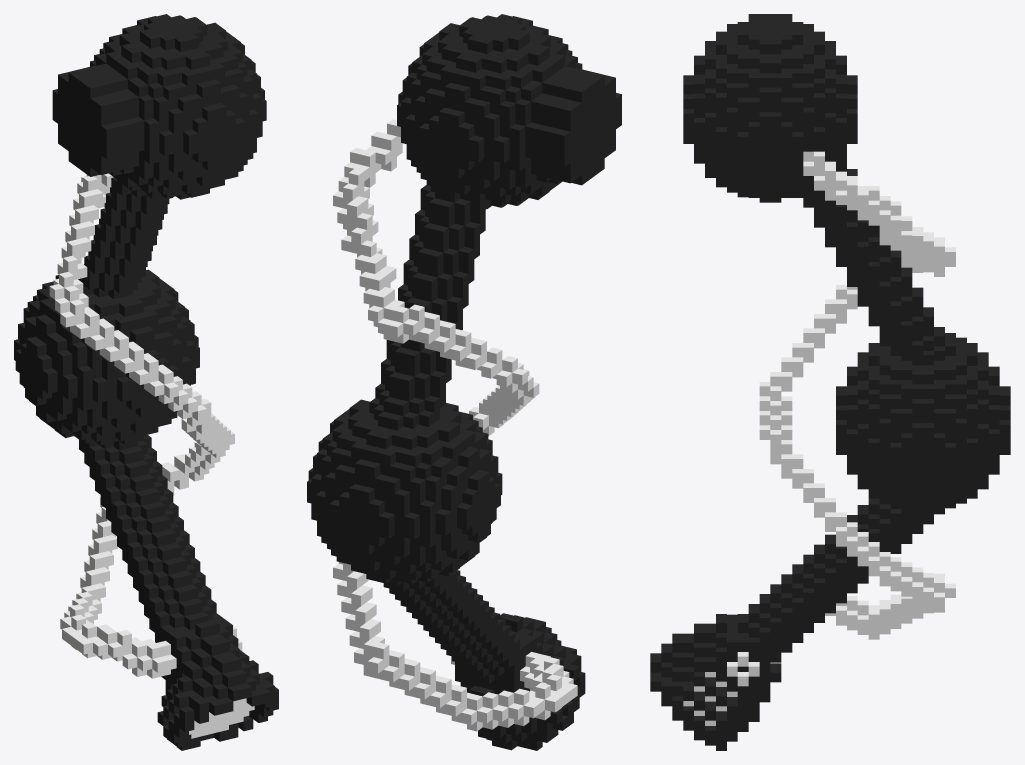
The model's file is fisk_armL.fbx.
3 renders of one model, left to right at view 1: azimuth 30°, elevation 25°; view 2: azimuth 150°, elevation 25°; view 3: azimuth 270°, elevation 25°, orthographic. The views are drawn at different scales.
Parts seen in each view (by area): view 1: left_arm; view 2: left_arm; view 3: left_arm.
Part boxes in pixels (left/top/right/bottom): left_arm: left=14, top=14, right=278, bottom=750; left_arm: left=307, top=14, right=621, bottom=750; left_arm: left=650, top=14, right=1010, bottom=750.
Bounding box in the file's own units: 20 × 71 × 33.
